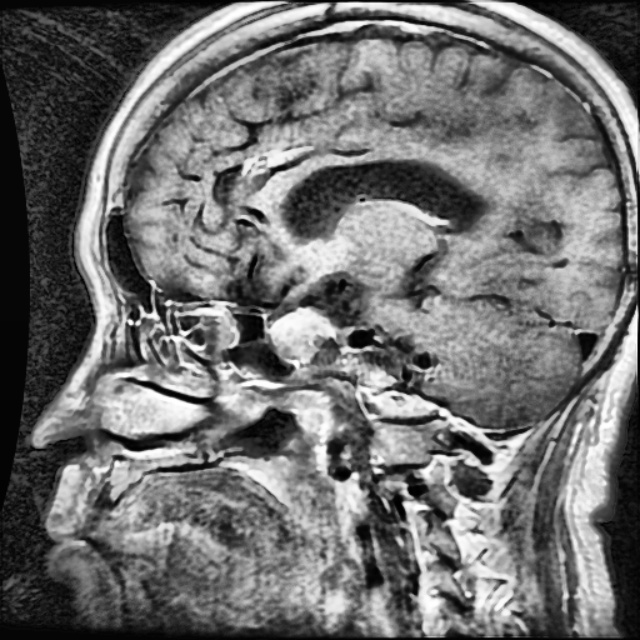Pituitary: (269, 304, 335, 364)
